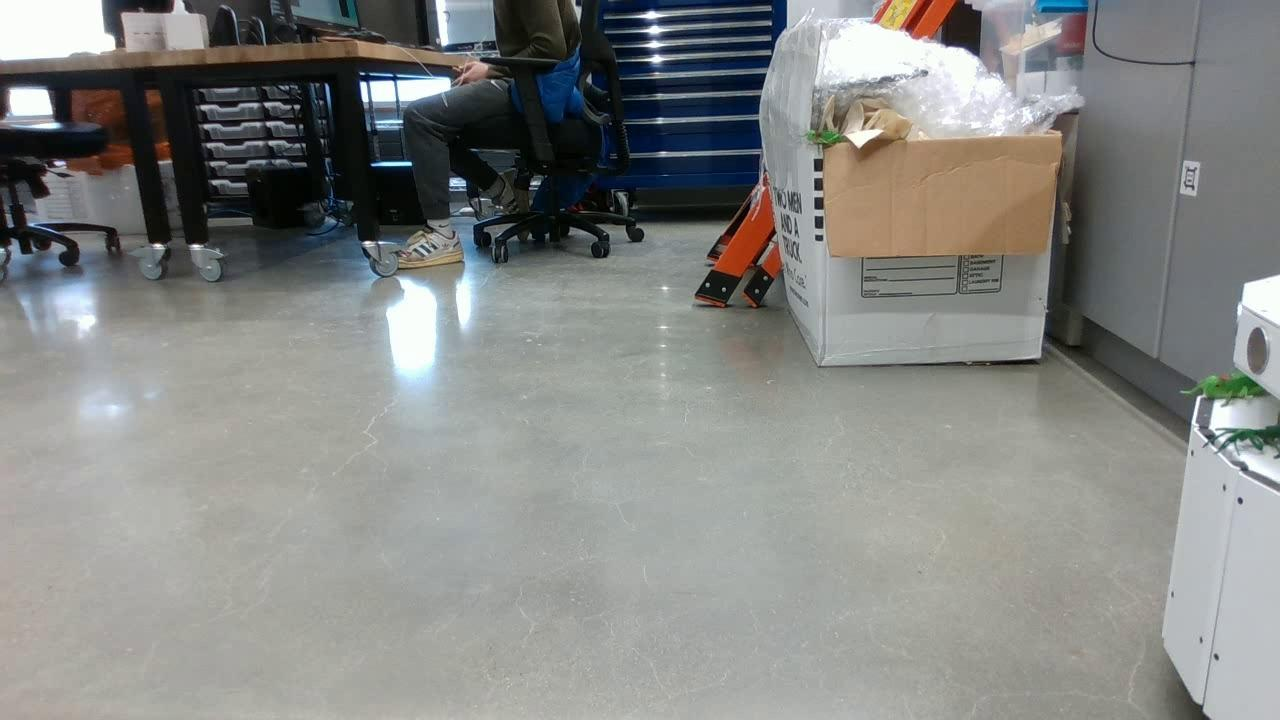grasshopper: (1176, 373, 1271, 407), (803, 129, 850, 146)
